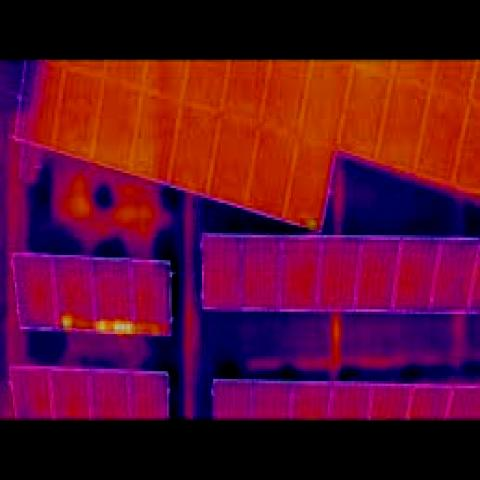fault: (96, 321, 132, 334), (61, 312, 76, 332), (300, 218, 319, 232)
